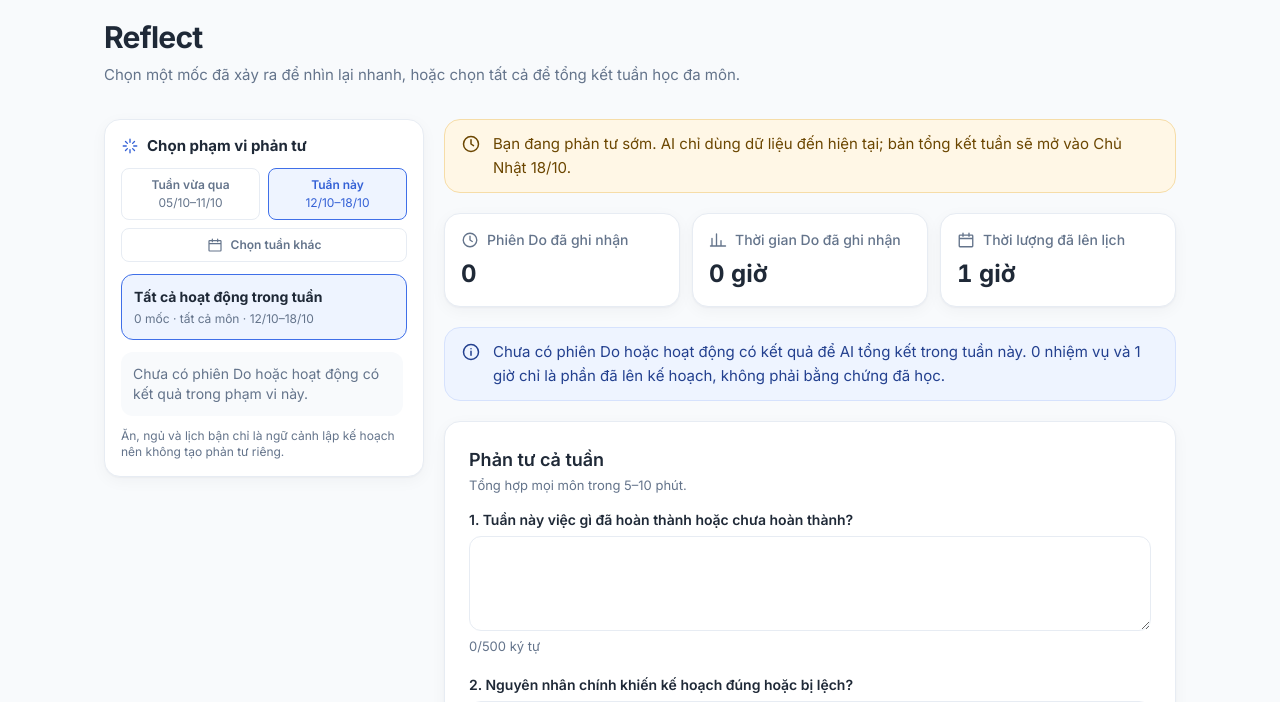
weekly reflection scope › shows only three recent activities until the learner expands the list
Click the button "Tuần vừa qua 05/10–11/10" at coordinates (190, 194), box 121,168 -> 260,220
(page scrolled)
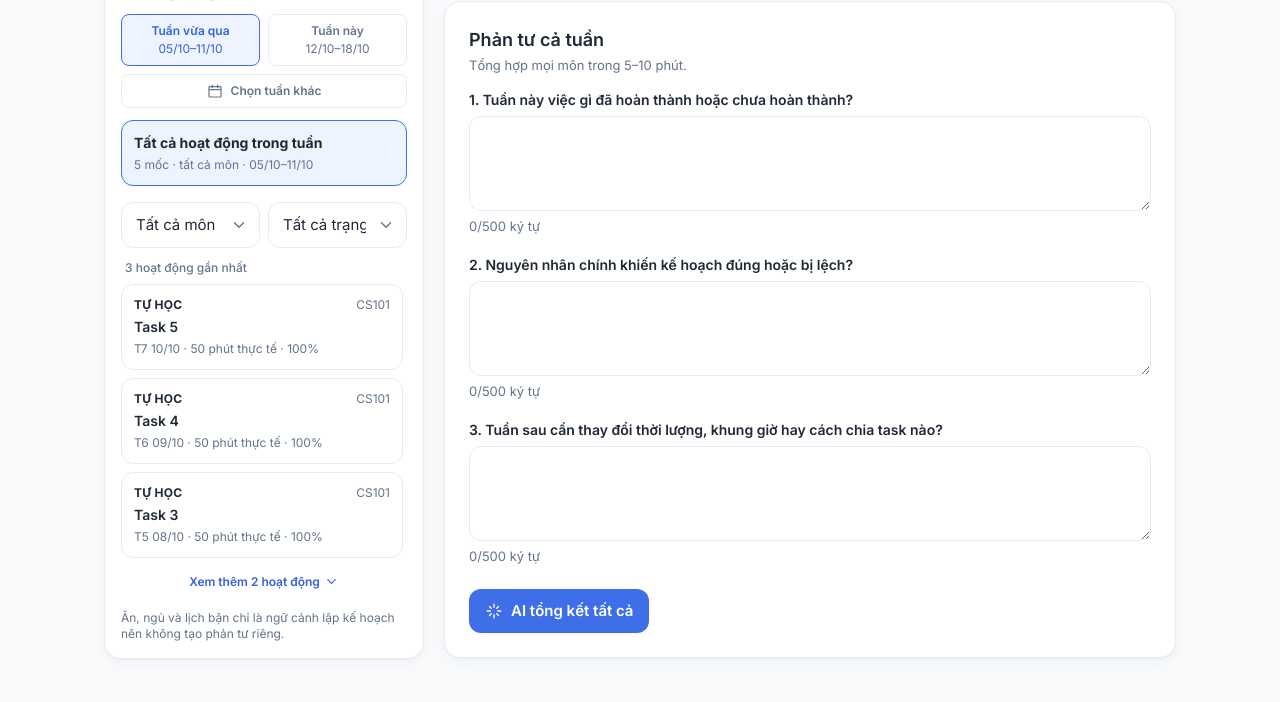
Check: the text "Task 1" is not shown
Check: the text "Task 5" is shown, box 134,317 -> 178,334
Click the button "Xem thêm 2 hoạt động" at coordinates (264, 581), box 121,565 -> 407,597
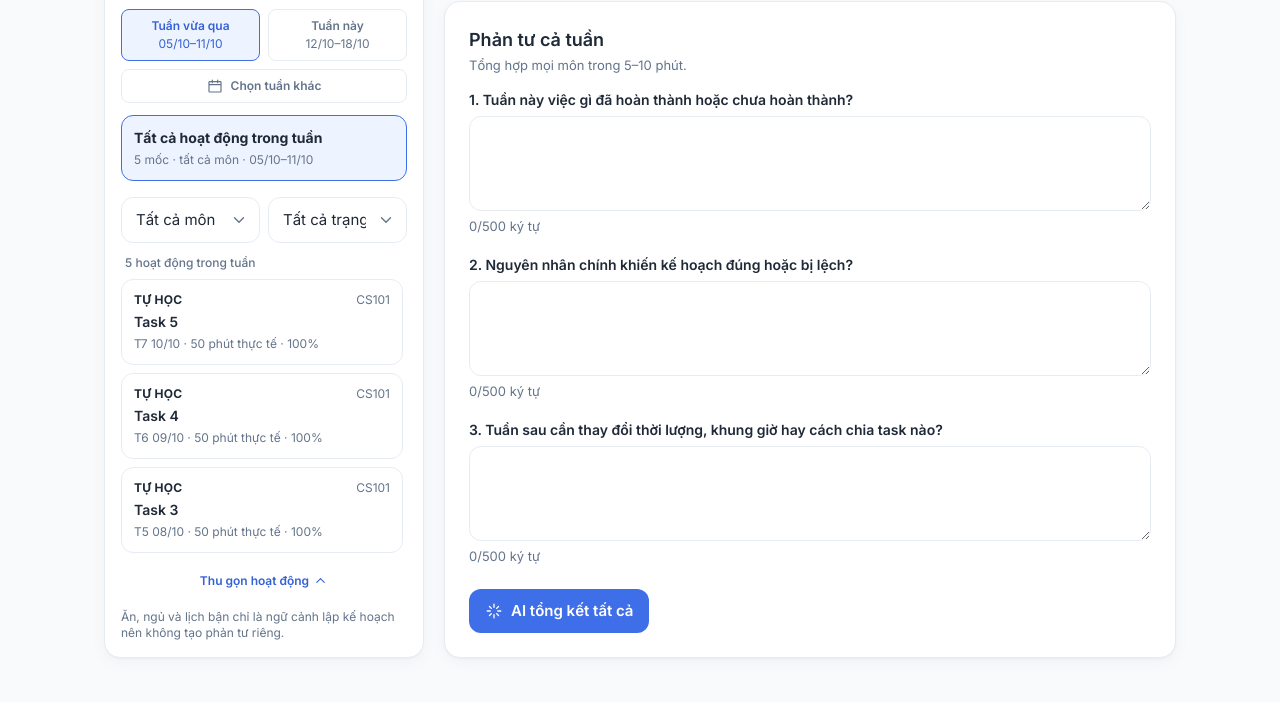
Check: the button "Thu gọn hoạt động" is shown, box 121,565 -> 407,597
